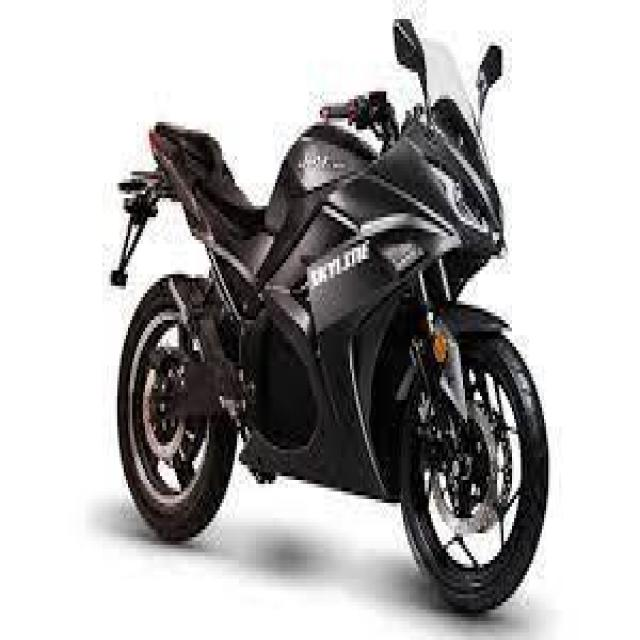motorcycle: (54, 13, 564, 627)
